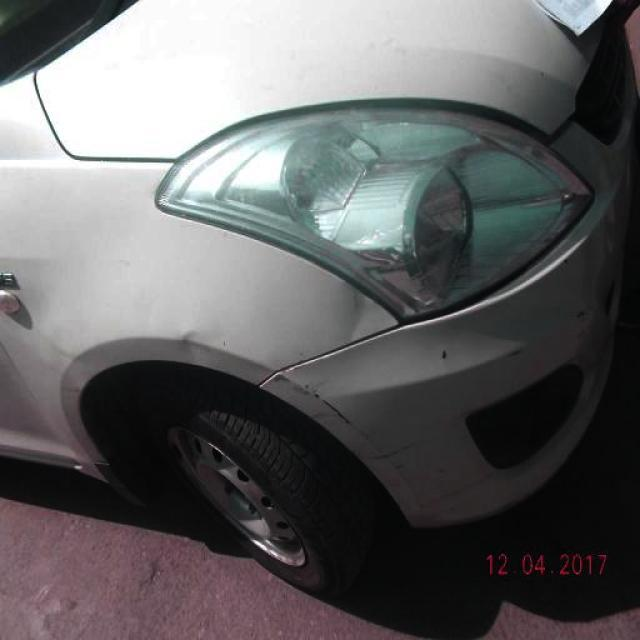car damage: (295, 381, 417, 467), (438, 320, 538, 367), (179, 319, 211, 369), (573, 297, 593, 337)
